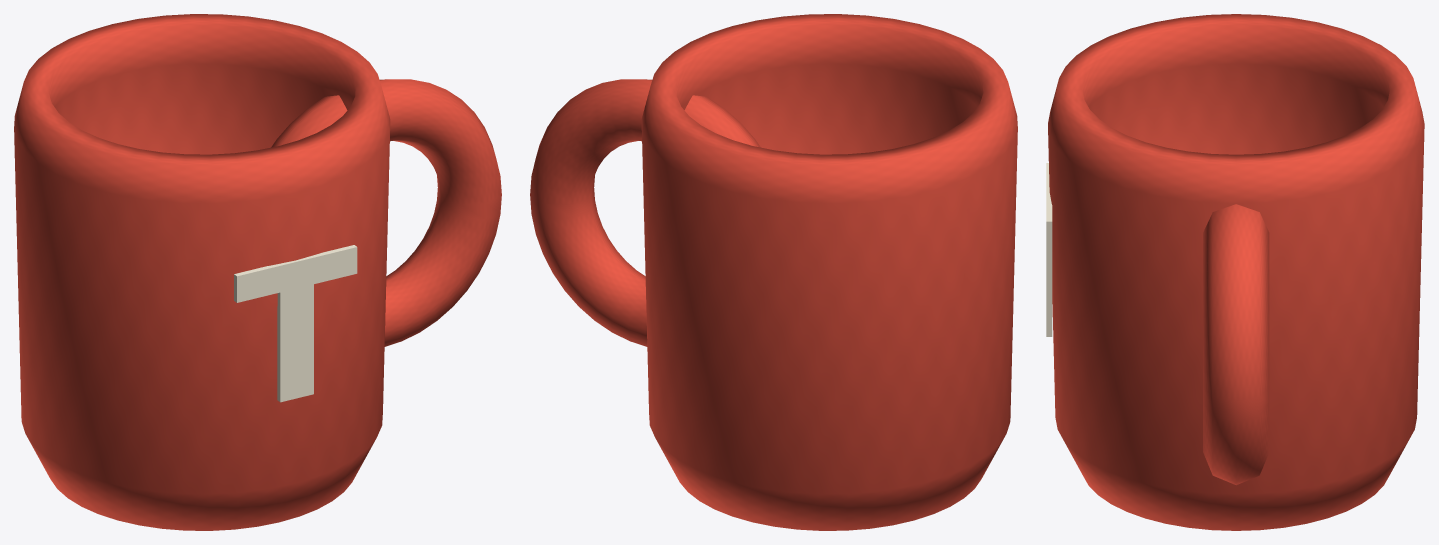
The model's file is MUG.glb.
3 views of the same model, side by side, from view 1: azimuth 30°, elevation 25°; view 2: azimuth 150°, elevation 25°; view 3: azimuth 270°, elevation 25° (orthographic).
Visible parts, largest first — view 1: MUG; view 2: MUG; view 3: MUG.
Part boxes in pixels (x1,y1,x2,y2): MUG: [14, 14, 501, 530]; MUG: [530, 14, 1017, 530]; MUG: [1046, 14, 1424, 530].
Size of the model in its own units: 0.352 by 0.275 by 0.251.
Materials: 2 (1 with a texture image).
